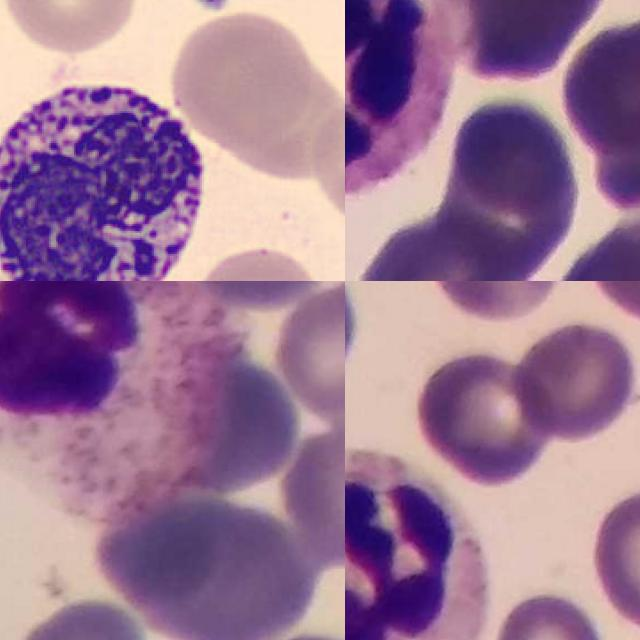Basophil: (0, 56, 218, 281)
Neutrophil: (0, 281, 228, 514), (345, 450, 488, 640), (345, 0, 449, 197)
Platelets: (182, 0, 235, 14)
RBC: (166, 6, 314, 147), (0, 0, 145, 56), (303, 77, 345, 236), (182, 238, 331, 281)
